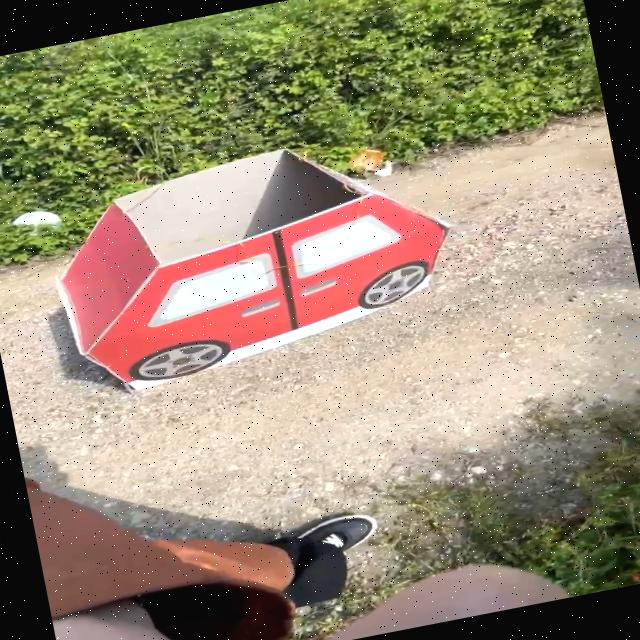red_car: (5, 106, 490, 428)
